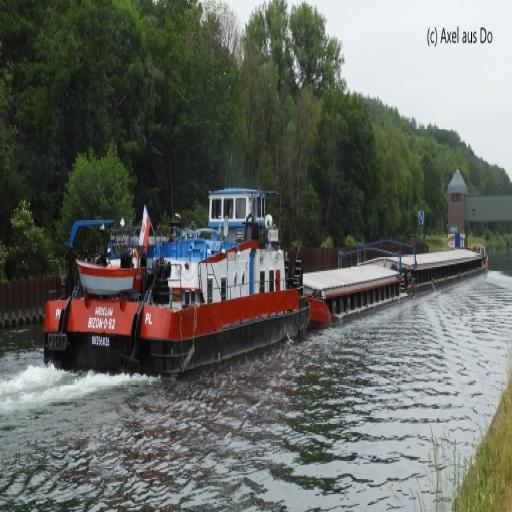tugboat: (41, 177, 334, 381)
